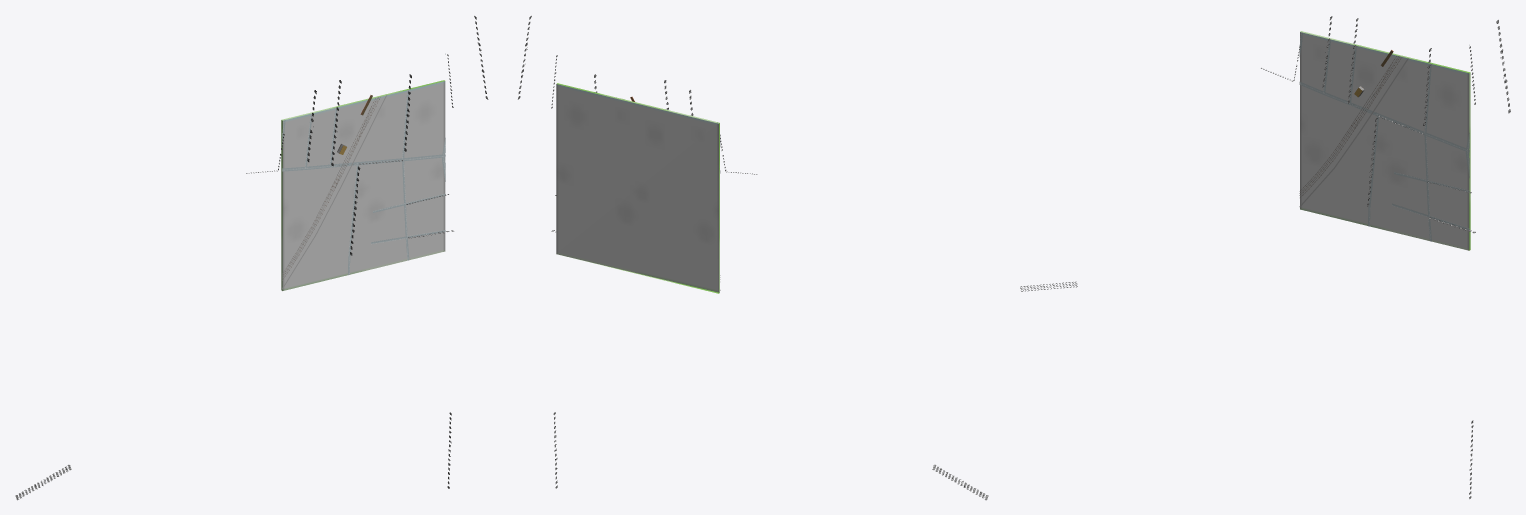
3 views of the same model, side by side, from view 1: azimuth 30°, elevation 25°; view 2: azimuth 150°, elevation 25°; view 3: azimuth 330°, elevation 25° (orthographic). The views are drawn at different scales.
Parts seen in each view (by area): view 1: POLYGON, POLYLINE, FONT; view 2: POLYGON, FONT; view 3: POLYGON, POLYLINE, FONT.
Part boxes in pixels (x1,y1,x2,y2): POLYGON: [281, 80, 445, 290]; POLYLINE: [282, 53, 445, 288]; FONT: [15, 16, 488, 500]; POLYGON: [556, 83, 719, 293]; FONT: [518, 16, 988, 500]; POLYGON: [1300, 31, 1470, 250]; POLYLINE: [1299, 32, 1469, 241]; FONT: [1020, 16, 1510, 498].
Bounding box in the file's own units: 1768 × 1679 × 28.
Materials: 3 (3 with a texture image).
